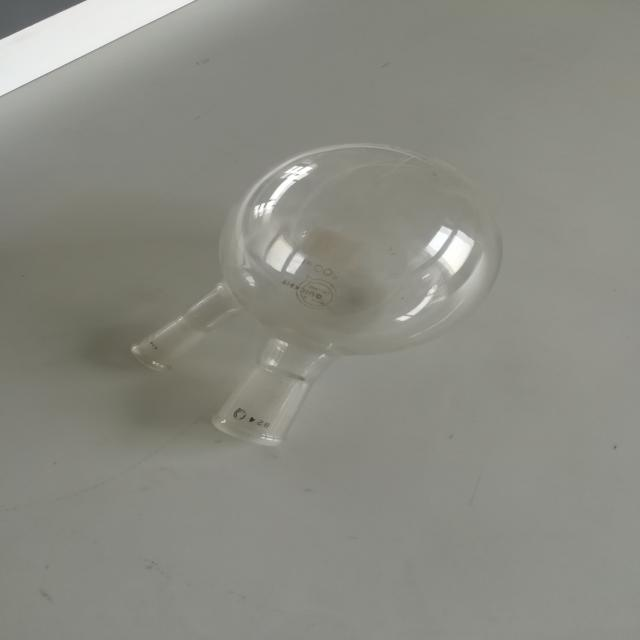Round_Bottom_Flask_Borosilicate_Glass_2_Neck: (102, 107, 545, 493)
